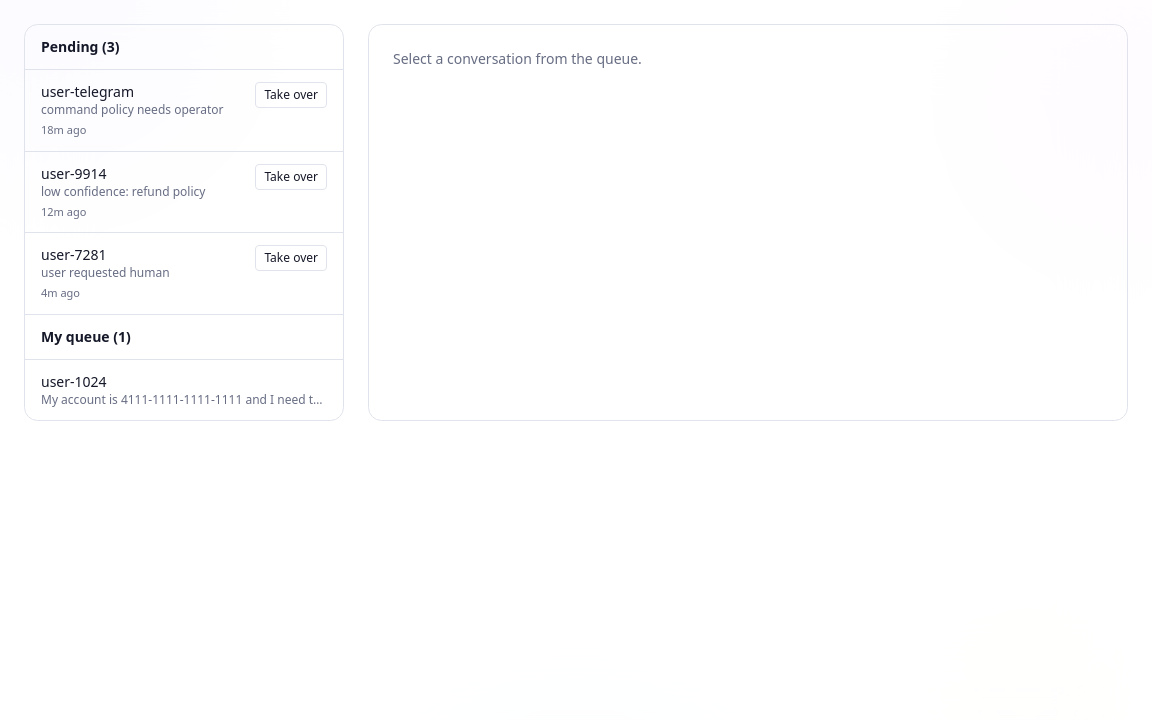
InboxScreen › clicking Take over claims the item and opens the composer
The width and height of the screenshot is (1152, 720).
Click the button with test id "claim-11111111-1111-1111-1111-111111111111" at point(291, 258), box [255,245,327,271]
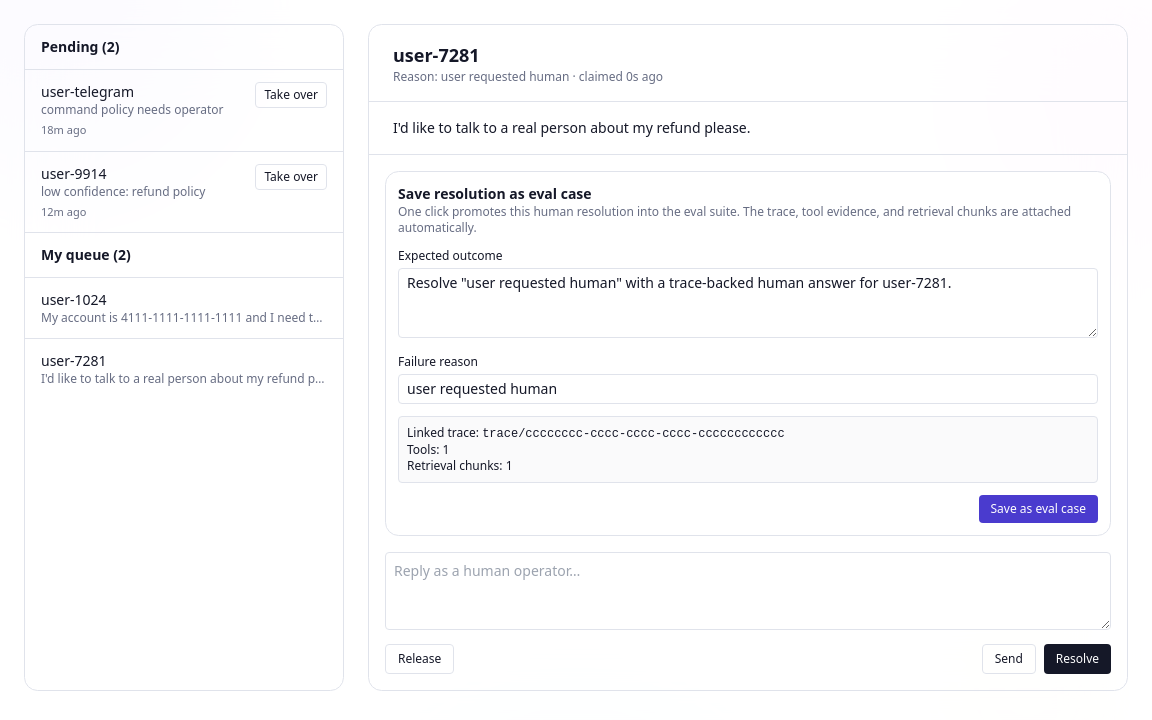
Now the text box with test id "composer-input" is shown, box [385,552,1111,630]
Now the element with test id "resolution-to-eval" is shown, box [385,171,1111,536]
Now the button with test id "send-button" is disabled, box [982,644,1036,674]
